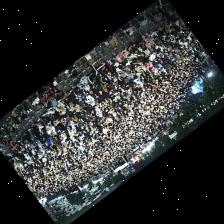person: (86, 60, 98, 84), (41, 117, 54, 135), (98, 61, 112, 75), (52, 120, 64, 136), (62, 91, 74, 106), (76, 75, 88, 89), (83, 90, 94, 105), (59, 105, 70, 120), (28, 132, 37, 150), (58, 117, 70, 130), (44, 108, 58, 119), (53, 101, 65, 113), (115, 49, 126, 62), (126, 43, 139, 54), (29, 125, 39, 139), (71, 85, 83, 96), (20, 131, 31, 143), (99, 74, 110, 86), (134, 38, 145, 50), (84, 103, 95, 115), (92, 83, 103, 94), (69, 99, 79, 111), (82, 84, 94, 94), (73, 92, 85, 102), (33, 121, 43, 133), (80, 107, 89, 120), (21, 139, 30, 152), (42, 135, 50, 149), (132, 56, 143, 65), (100, 92, 109, 103), (155, 27, 167, 35), (108, 57, 118, 66), (149, 31, 159, 40), (12, 143, 21, 153), (115, 67, 124, 77), (141, 32, 151, 41), (145, 40, 156, 48), (35, 140, 42, 151), (135, 48, 144, 56), (143, 49, 151, 58), (126, 53, 135, 61), (94, 106, 101, 116), (163, 21, 169, 32), (148, 54, 156, 62), (45, 80, 53, 88), (118, 62, 127, 69), (78, 101, 83, 113), (106, 75, 116, 81), (135, 65, 143, 72), (125, 61, 132, 69), (8, 148, 15, 156), (161, 35, 170, 41), (148, 47, 155, 54)
